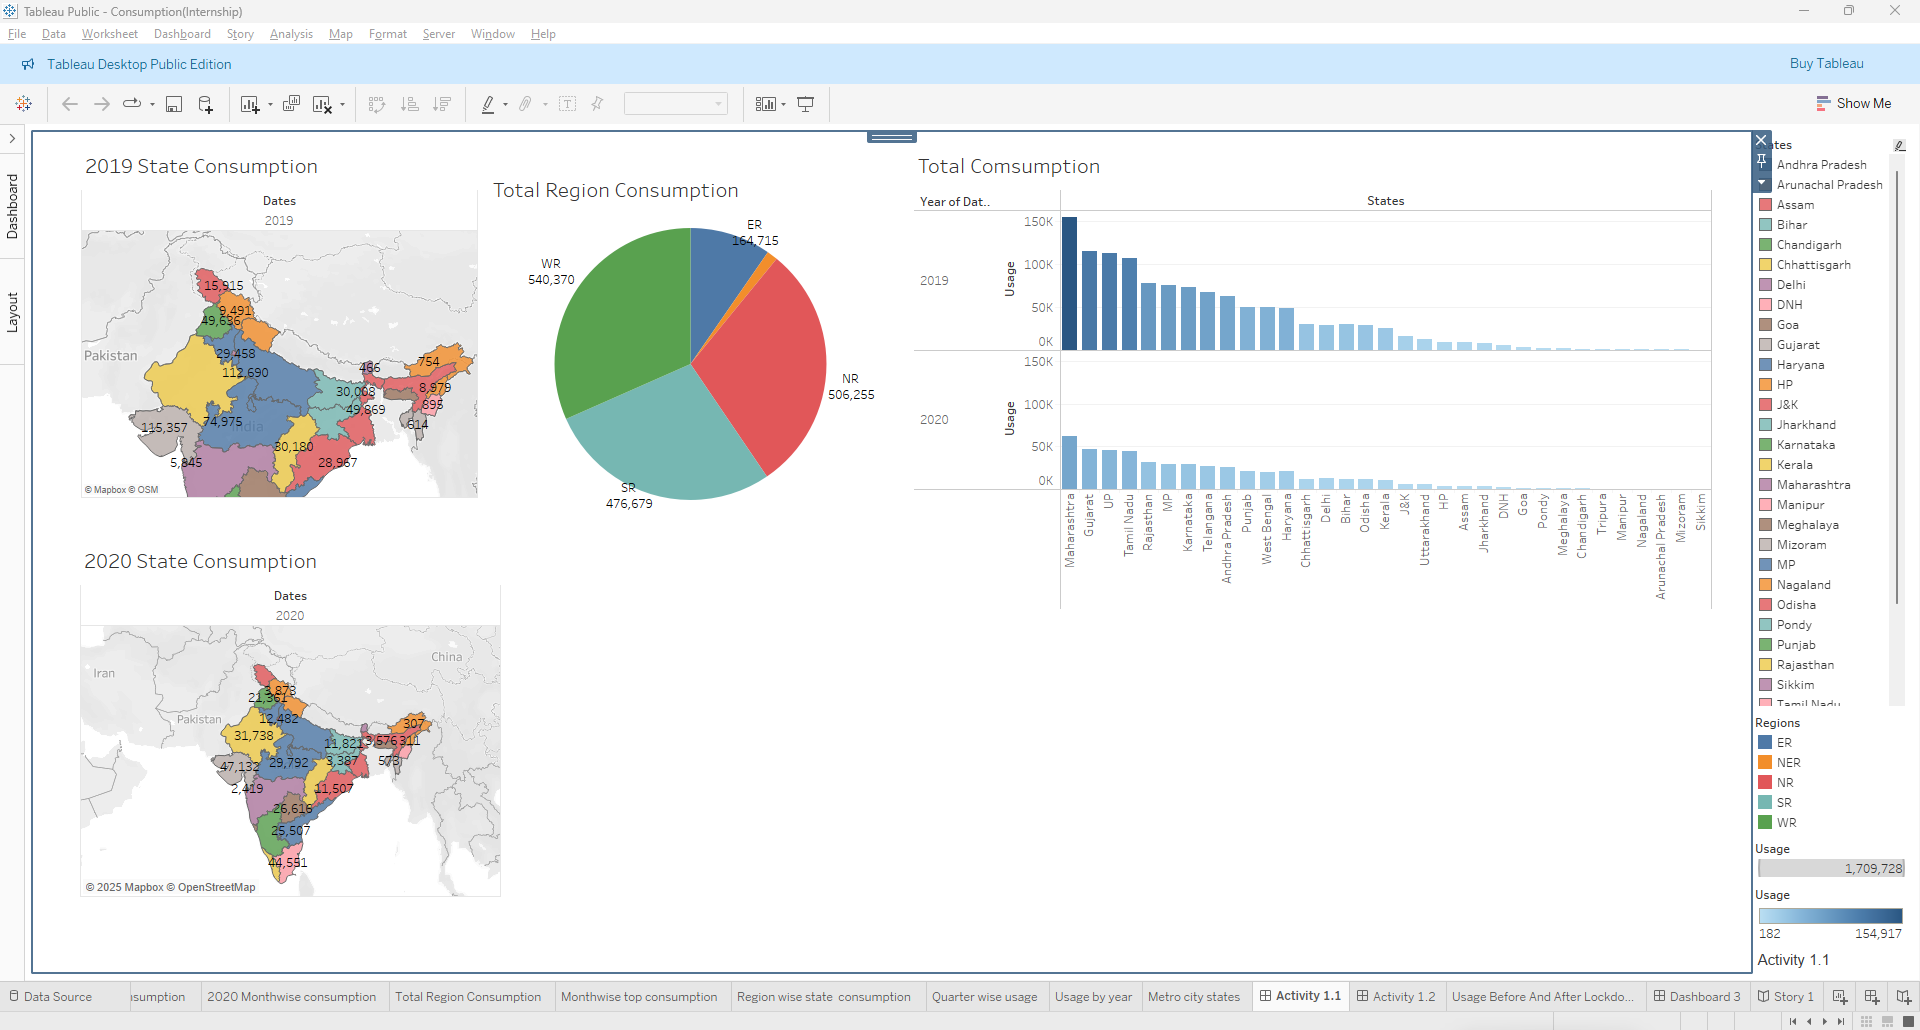

What the dashboard file says about the page in this screenshot:
{"tool":"tableau","page":{"name":"Activity 1.1","canvas":[1000,1000],"units":"permille","ordinal":0},"visuals":[{"type":"legend","title":"2019 State Consumption","param":"[federated.0mln1pv09h2lre16xwj060pckrwt].[none:States:nk]","box":[901.7,9.3,93.6,675.2]},{"type":"worksheet","title":"Total Comsumption","mark":"Automatic","rows":["Dates","Usage"],"cols":["States"],"box":[469.3,26.9,421.3,540.9]},{"type":"worksheet","title":"2019 State Consumption","mark":"Multipolygon","cols":["Dates","longitude"],"box":[29.4,27,209.5,410.5]},{"type":"worksheet","title":"Total Region Consumption","mark":"Pie","box":[245.2,54.9,213,400.7]},{"type":"worksheet","title":"2020 State Consumption","mark":"Multipolygon","cols":["Dates"],"box":[29.3,488.3,222.3,414.7]},{"type":"legend","title":"Total Region Consumption","param":"[federated.0mln1pv09h2lre16xwj060pckrwt].[none:Regions:nk]","box":[901.7,684.6,93.6,147.2]},{"type":"legend","title":"Total Region Consumption","param":"[federated.0mln1pv09h2lre16xwj060pckrwt].[sum:Usage:qk]","box":[901.7,831.8,93.6,53.7]},{"type":"legend","title":"Total Comsumption","param":"[federated.0mln1pv09h2lre16xwj060pckrwt].[sum:Usage:qk]","box":[901.7,885.5,93.6,75.9]},{"type":"text","box":[901.7,961.4,93.6,29.2]}]}

Visuals, with their boxes on the dashboard's canvas, which has no fixed pixel size, in thousandths of its width and height (x1, y1, x2, y2). These are canvas units, not pixel positions in the 1920x1030 screenshot, which may show the page scaled, cropped or inside an application window:
"2019 State Consumption" legend: (902, 9, 995, 684)
"Total Comsumption" worksheet: (469, 27, 891, 568)
"2019 State Consumption" worksheet (Multipolygon marks): (29, 27, 239, 438)
"Total Region Consumption" worksheet (Pie marks): (245, 55, 458, 456)
"2020 State Consumption" worksheet (Multipolygon marks): (29, 488, 252, 903)
"Total Region Consumption" legend: (902, 685, 995, 832)
"Total Region Consumption" legend: (902, 832, 995, 886)
"Total Comsumption" legend: (902, 886, 995, 961)
text: (902, 961, 995, 991)
